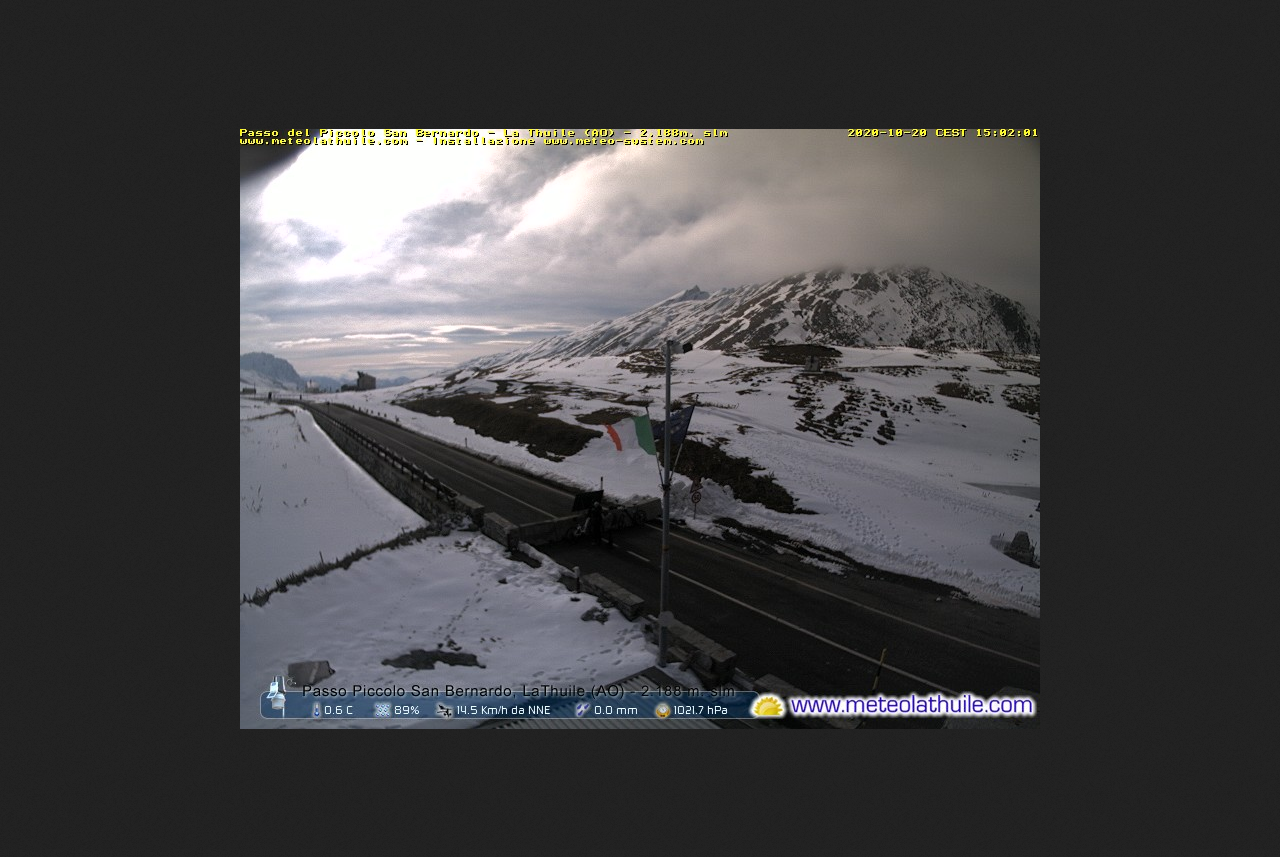yes: (601, 412, 659, 458), (647, 408, 692, 461)
